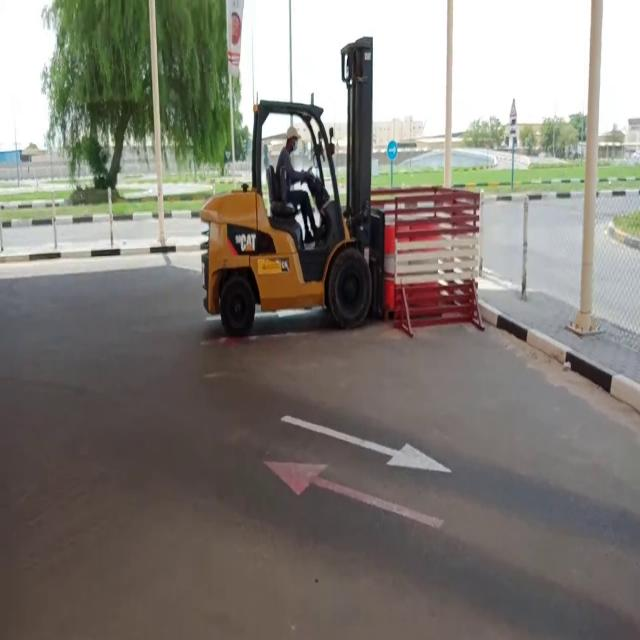Chariot elevateur: (195, 90, 385, 357)
